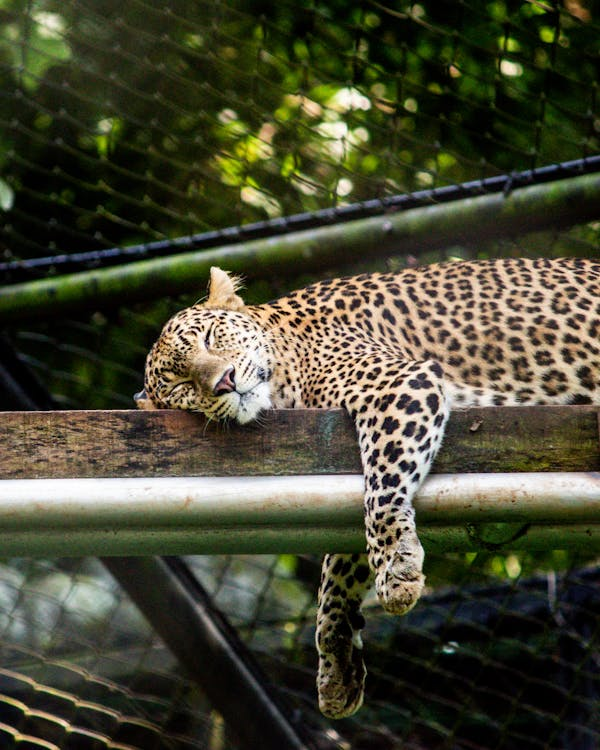Leopard: (133, 255, 600, 720)
